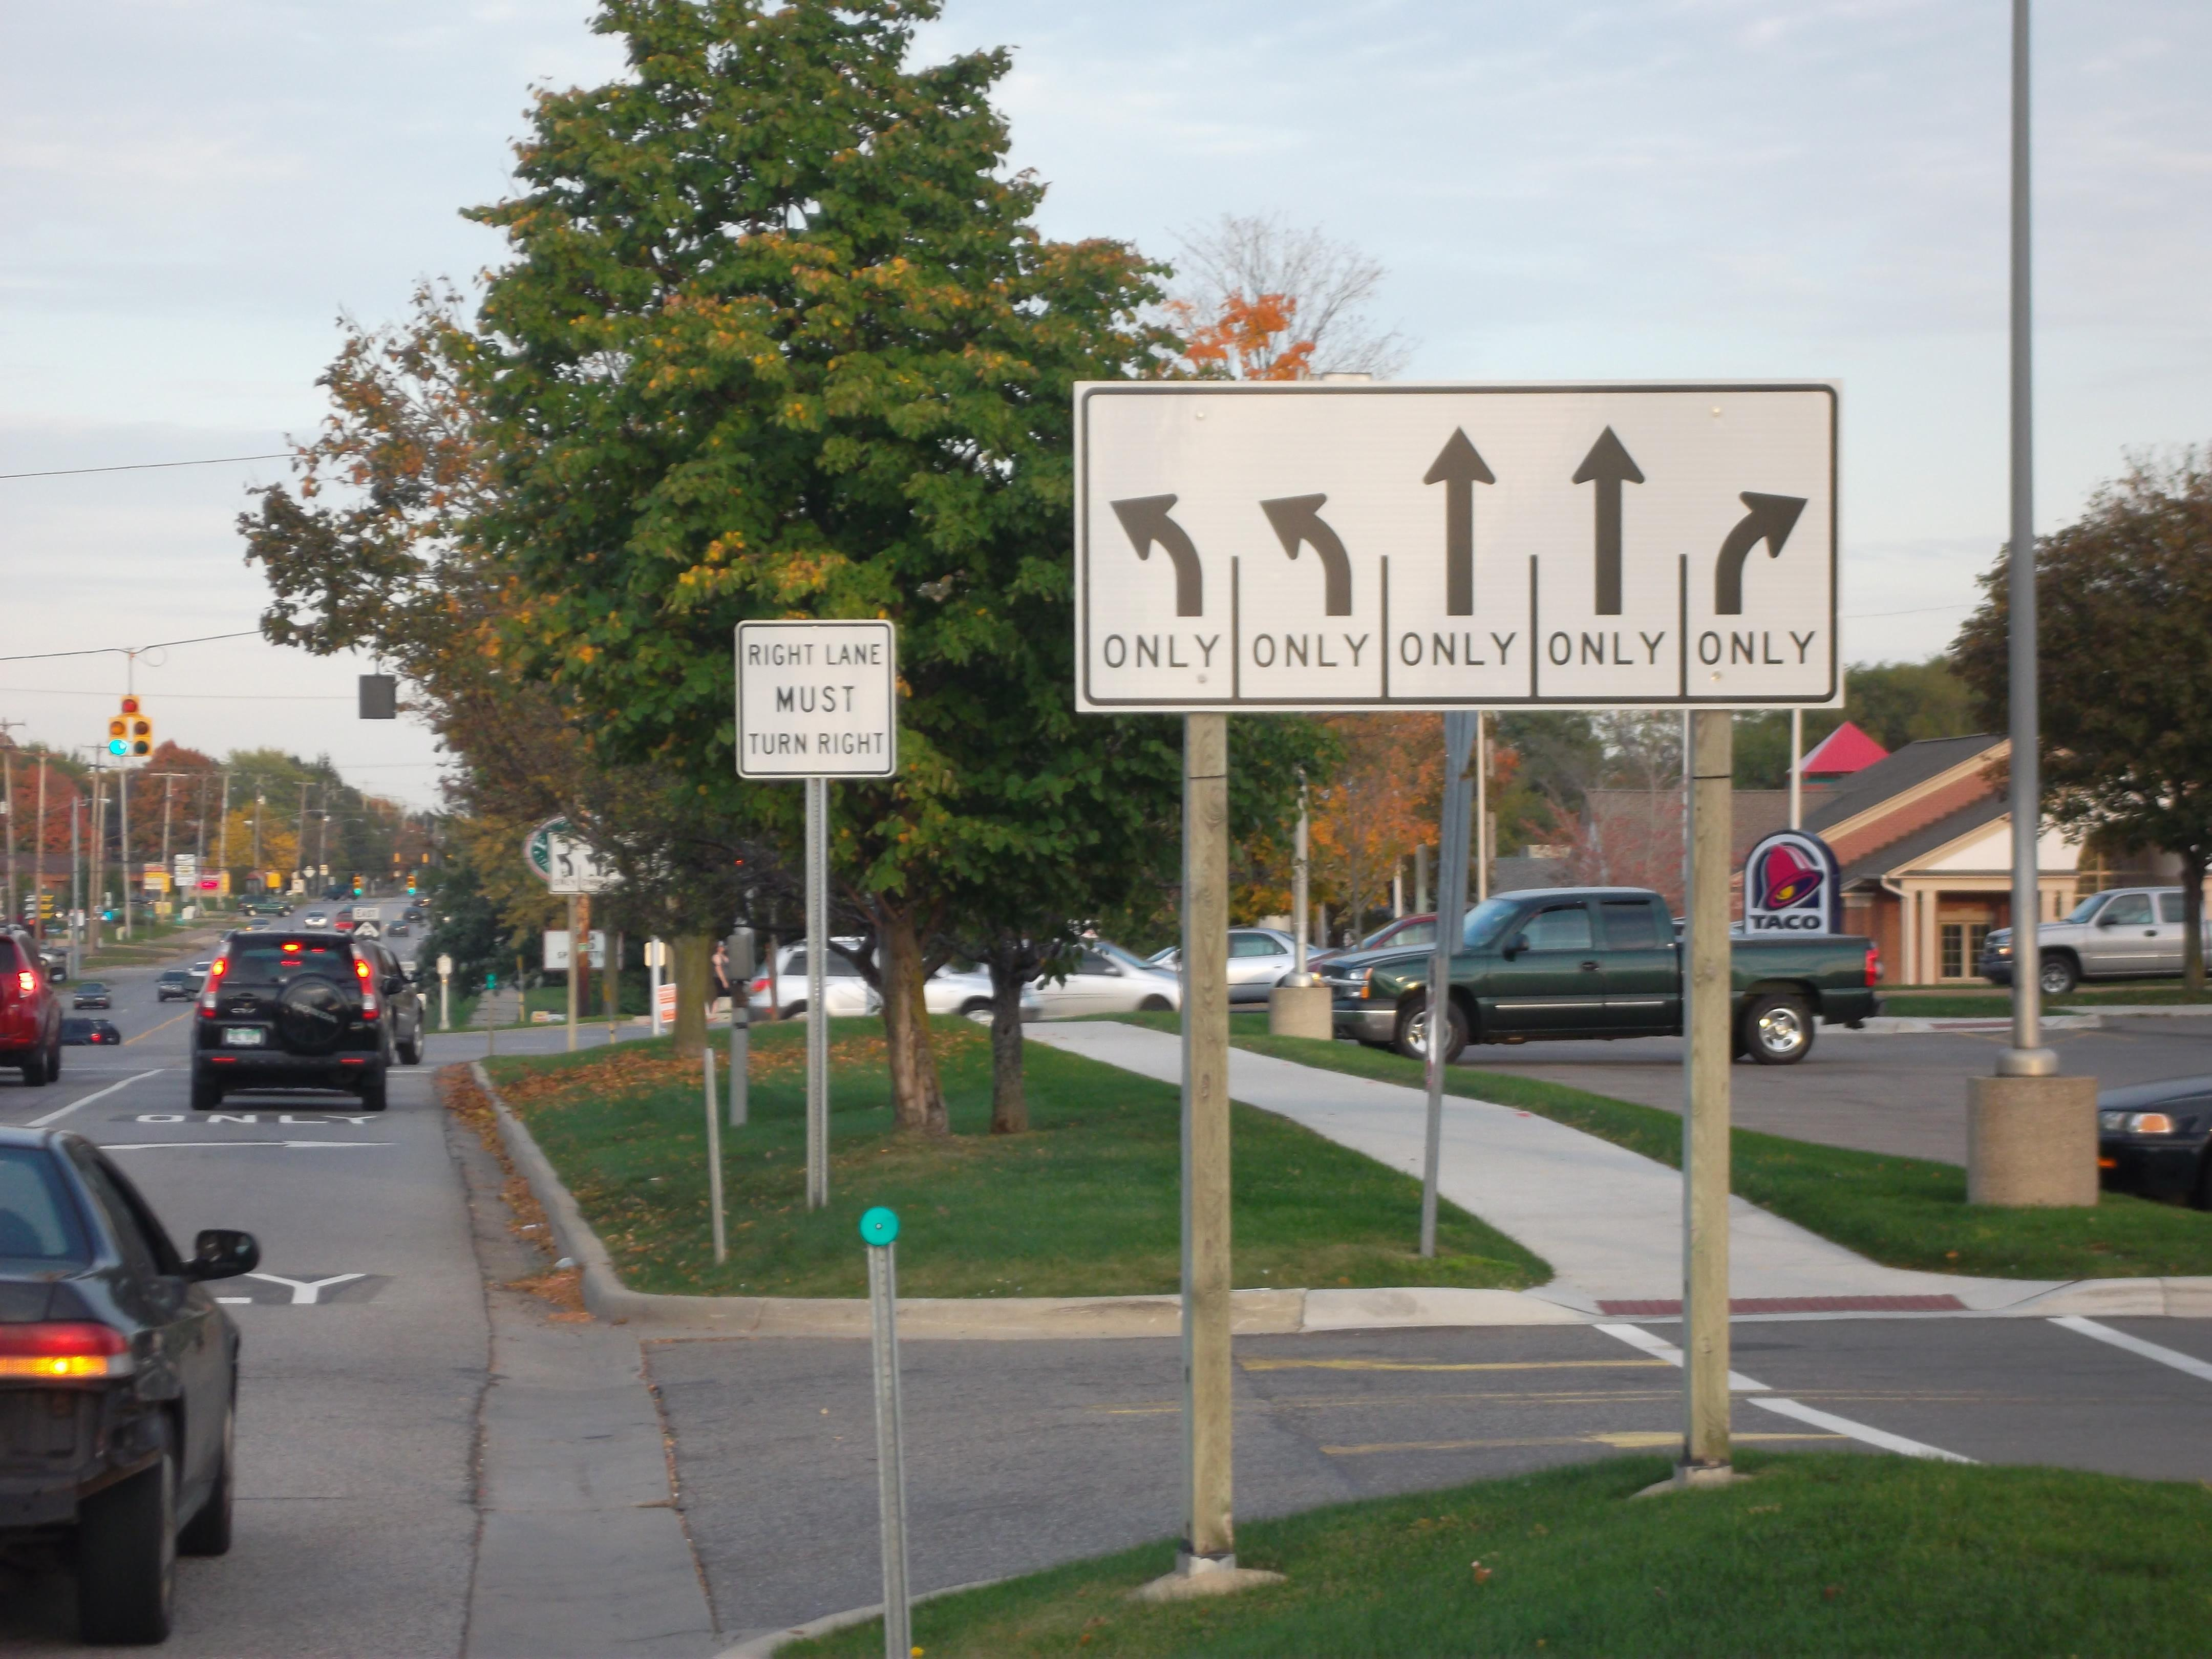regulatory: (1062, 375, 1851, 720), (730, 619, 904, 784)
